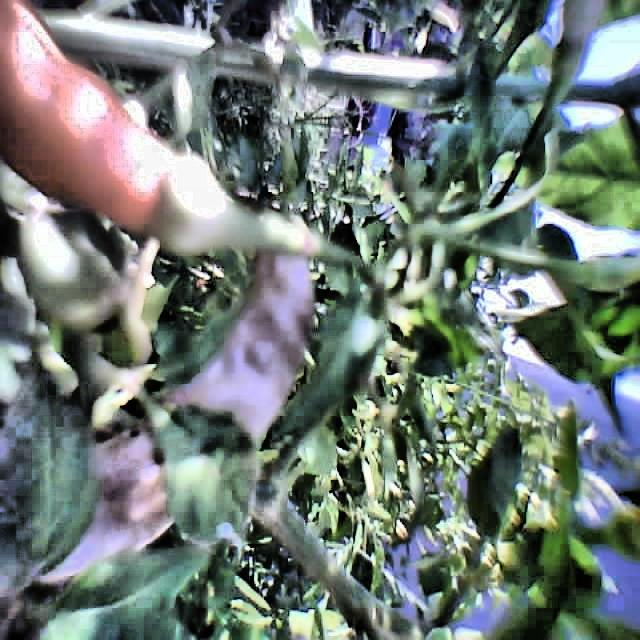Cabai: (2, 0, 250, 279)
